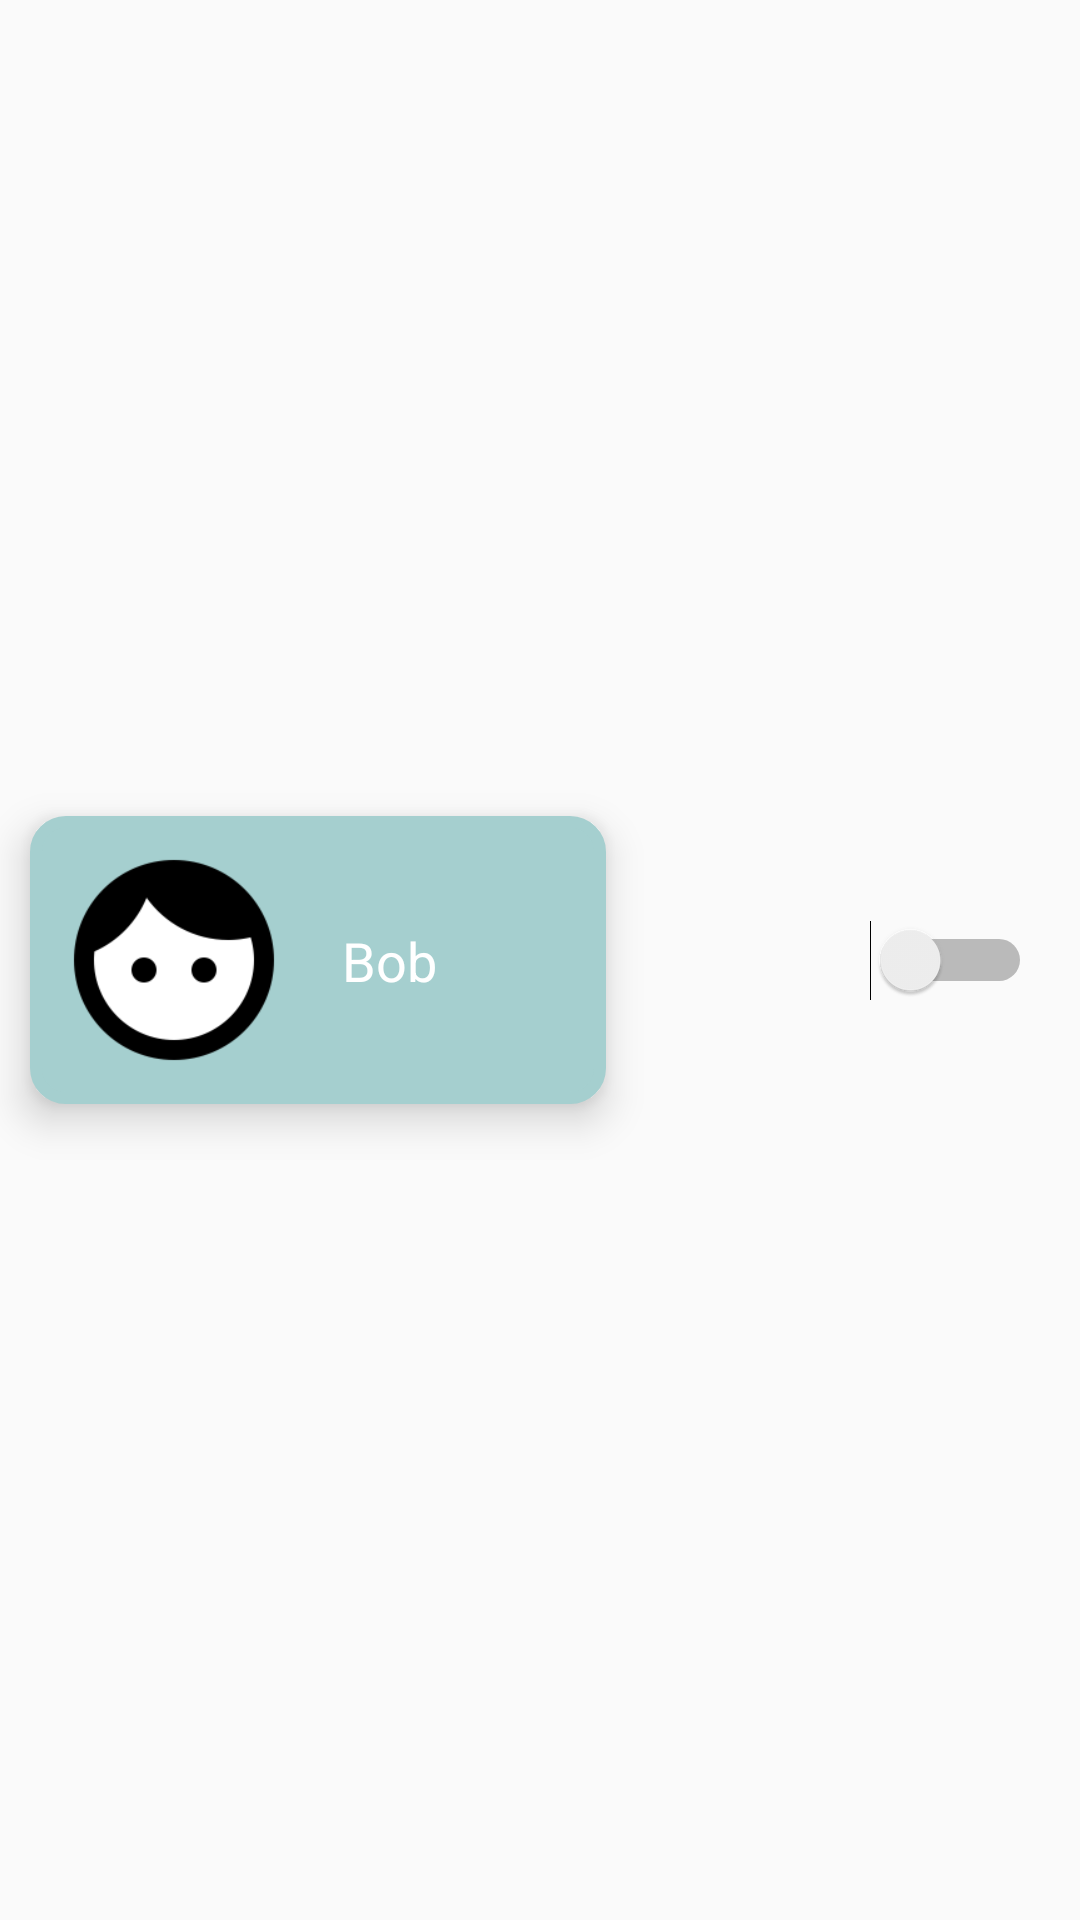

Named icons in this screenshot (1080×1920) and their bounding boxes, (x1, y1, x2, y2):
face: (74, 860, 274, 1060)
